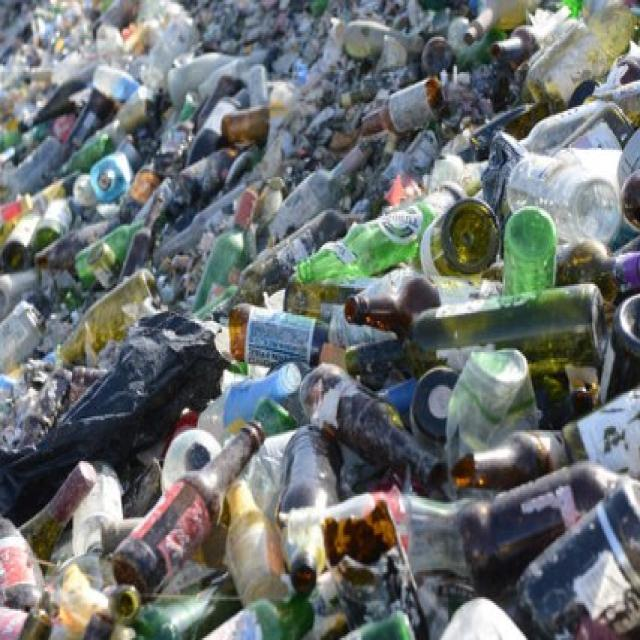electronic: (110, 420, 268, 612)
